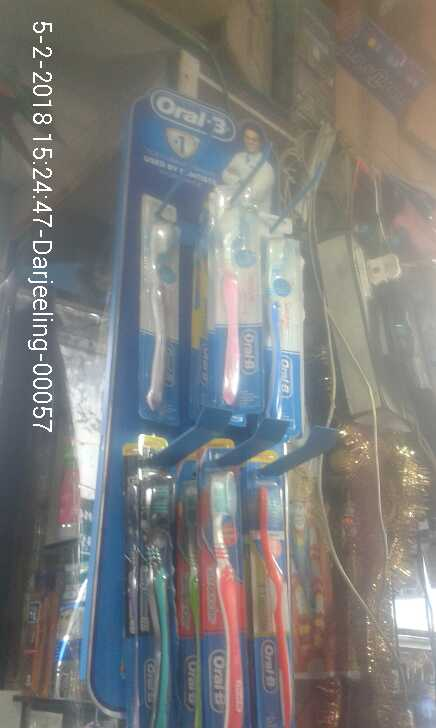oralb: (133, 437, 180, 728), (197, 448, 245, 728), (206, 193, 264, 410), (244, 462, 289, 728), (139, 192, 179, 429)
